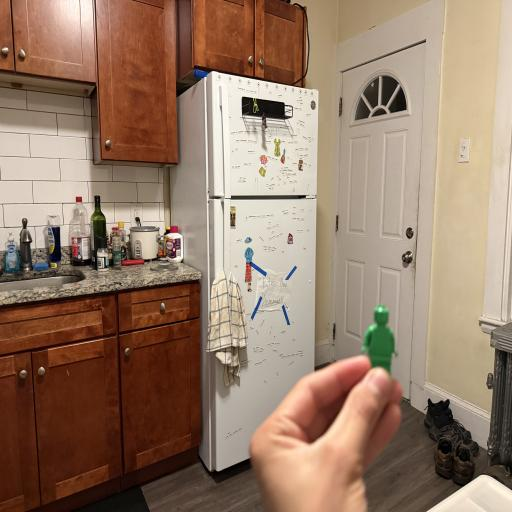Minifig: (361, 305, 397, 373)
